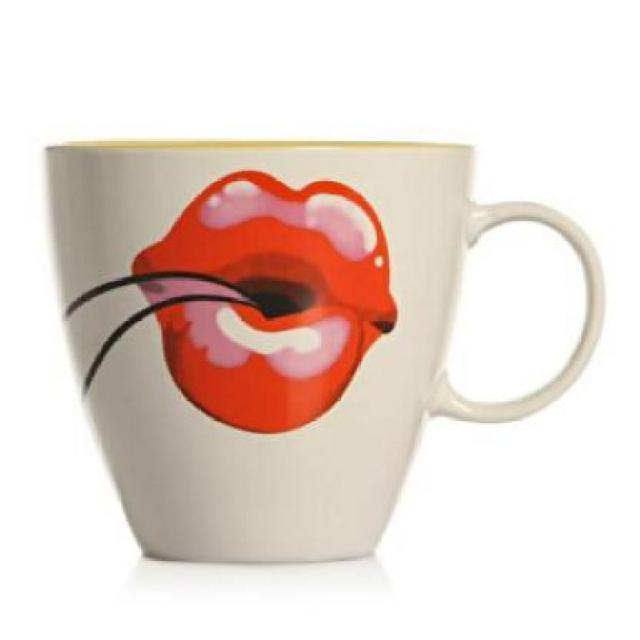taza: (39, 140, 606, 571)
